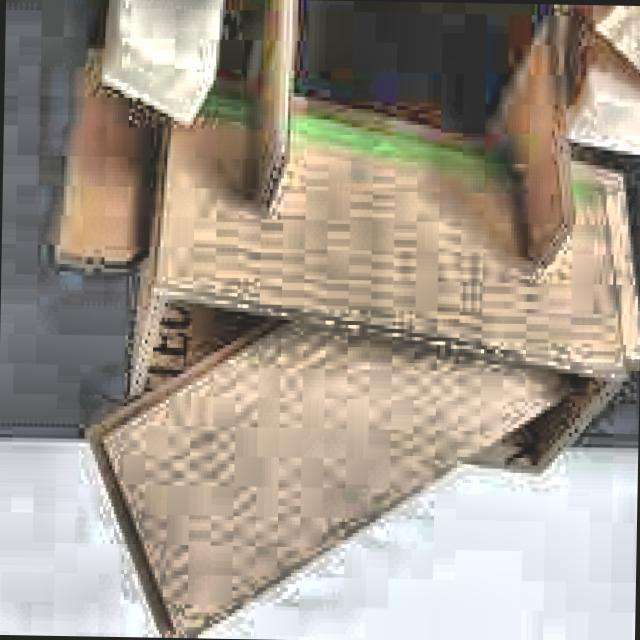cardboard: (80, 88, 640, 640)
